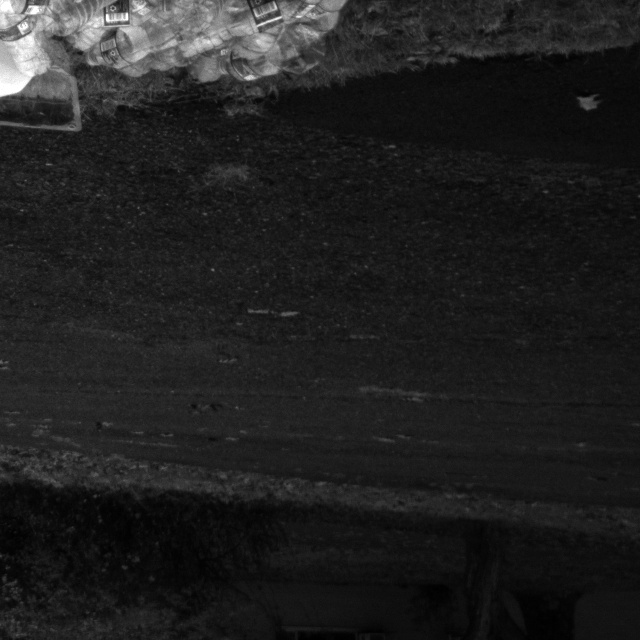bottle: (178, 0, 307, 59), (211, 21, 325, 86), (86, 15, 180, 69)
container: (0, 46, 83, 139)
